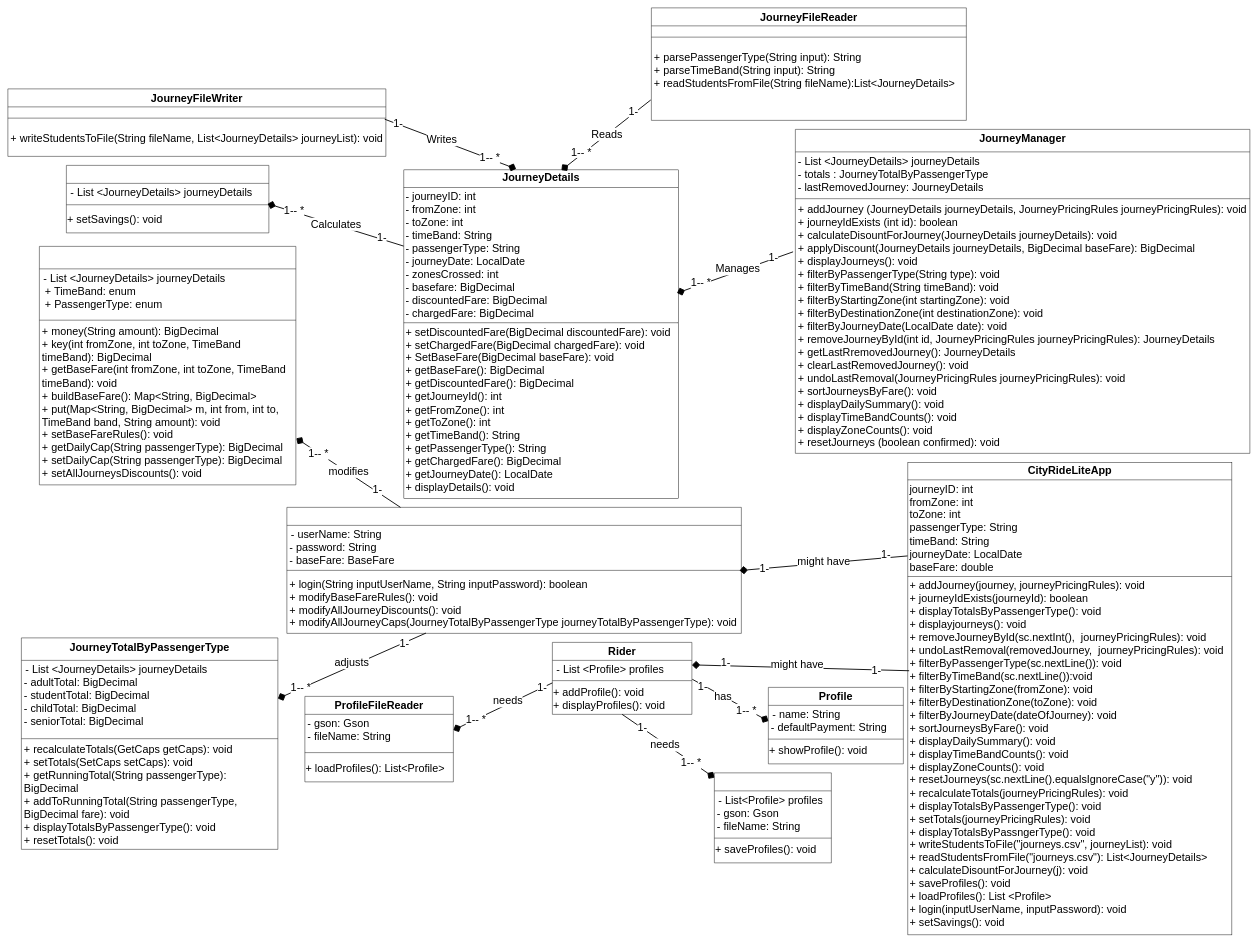
The diagram is 1258 pixels wide and 943 high, and some of its shapes have lost their labels. The box of each missing label's shape, as (x1, y1, x2, y2) in pixels:
Admin: (286, 507, 741, 633)
JourneyPricingRules: (39, 246, 296, 485)
JourneySavingsCalculator: (66, 165, 269, 233)
ProfileFileWriter: (714, 772, 831, 863)
